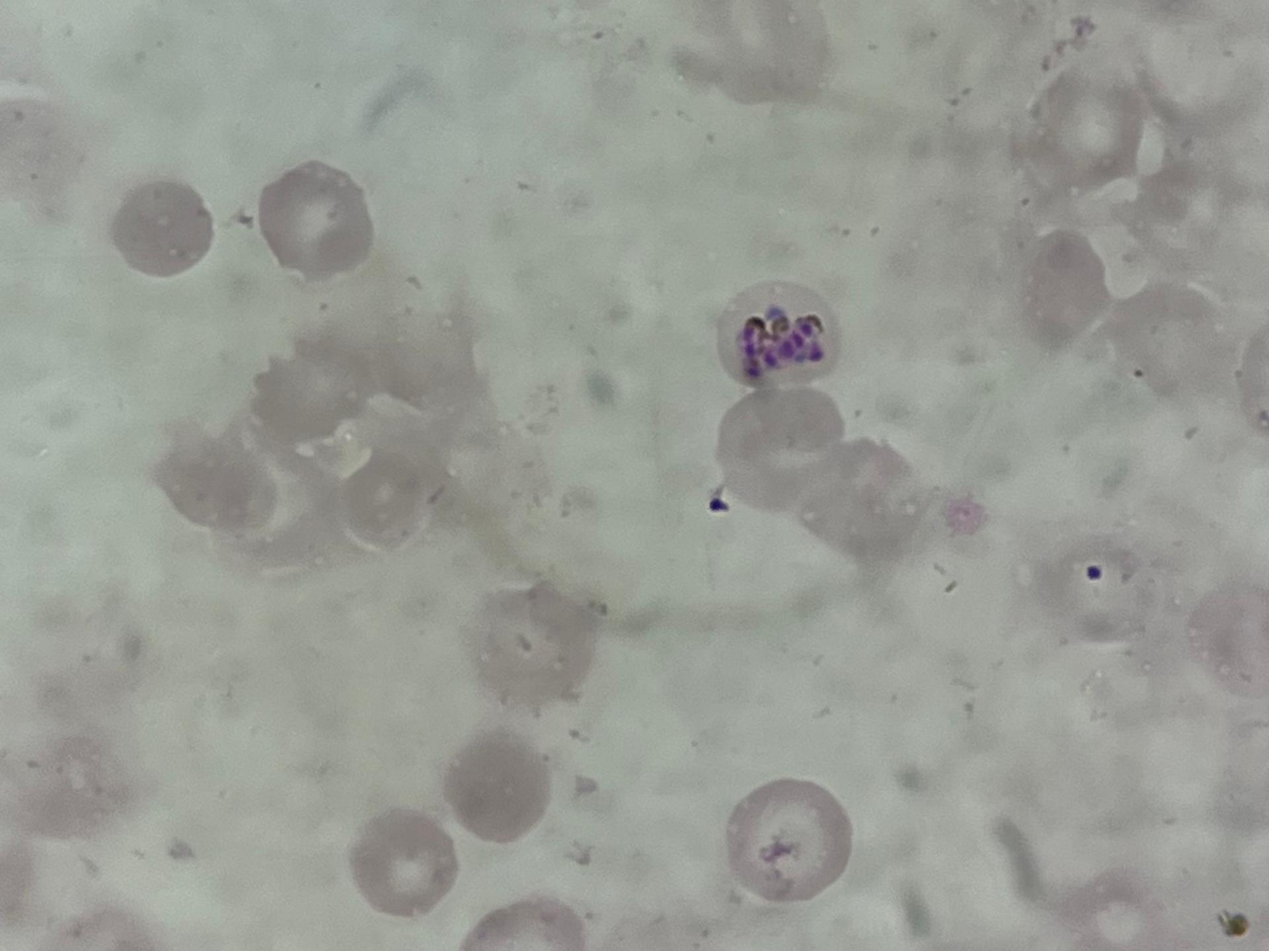Infected: (716, 285, 842, 386)
Uninfected: (463, 578, 593, 718), (712, 384, 836, 512), (720, 778, 843, 905), (256, 166, 372, 281), (350, 811, 458, 919), (441, 737, 545, 849), (106, 184, 209, 280)
